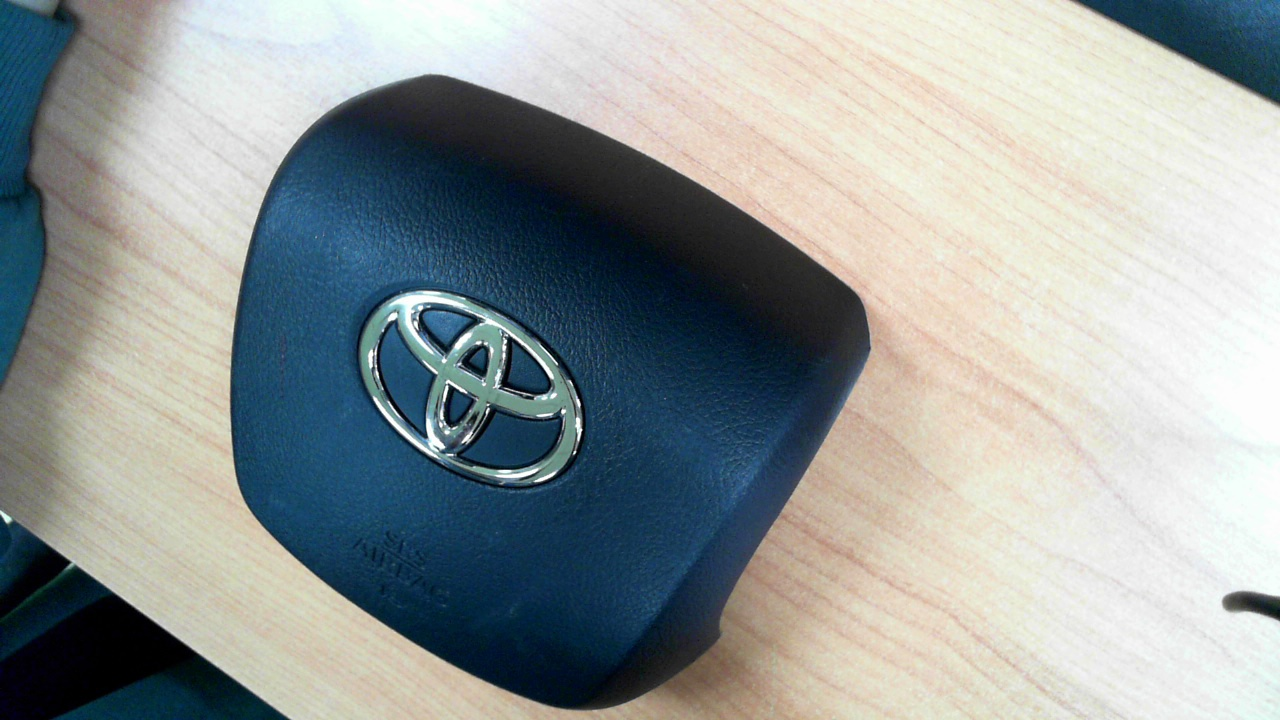Airbag: (229, 74, 872, 710)
Toyota: (358, 289, 584, 486)
